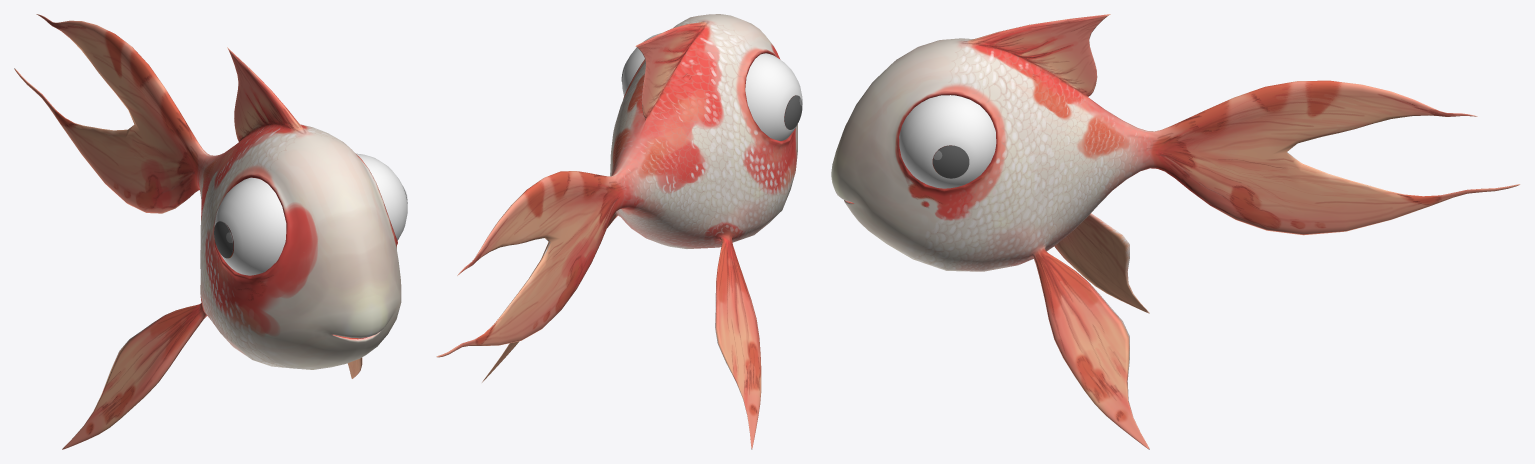
Rendered from Fish_Model.fbx.
3 views of the same model, side by side, from view 1: azimuth 30°, elevation 25°; view 2: azimuth 150°, elevation 25°; view 3: azimuth 270°, elevation 25° (orthographic). The views are drawn at different scales.
Parts seen in each view (by area): view 1: Fish_Body, Left_Eye.002, Left_Eye, R_eye_lens; view 2: Fish_Body, Left_Eye.002, Left_Eye, R_eye_lens; view 3: Fish_Body, Left_Eye, L_eye_lens.
Part boxes in pixels (x1,y1,x2,y2): Fish_Body: [14, 14, 401, 449]; Left_Eye.002: [214, 177, 286, 275]; Left_Eye: [356, 153, 407, 240]; R_eye_lens: [214, 221, 233, 258]; Fish_Body: [436, 14, 797, 449]; Left_Eye.002: [745, 53, 802, 140]; Left_Eye: [622, 33, 661, 96]; R_eye_lens: [784, 95, 802, 129]; Fish_Body: [831, 14, 1520, 449]; Left_Eye: [899, 95, 996, 188]; L_eye_lens: [933, 145, 969, 178].
Bounding box in the file's own units: 700 × 882 × 1498.
3 materials, 1 textured.
